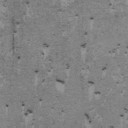oxide scale of temperature system: (5, 32, 128, 121), (84, 114, 92, 126), (119, 108, 128, 117), (14, 21, 20, 34)
